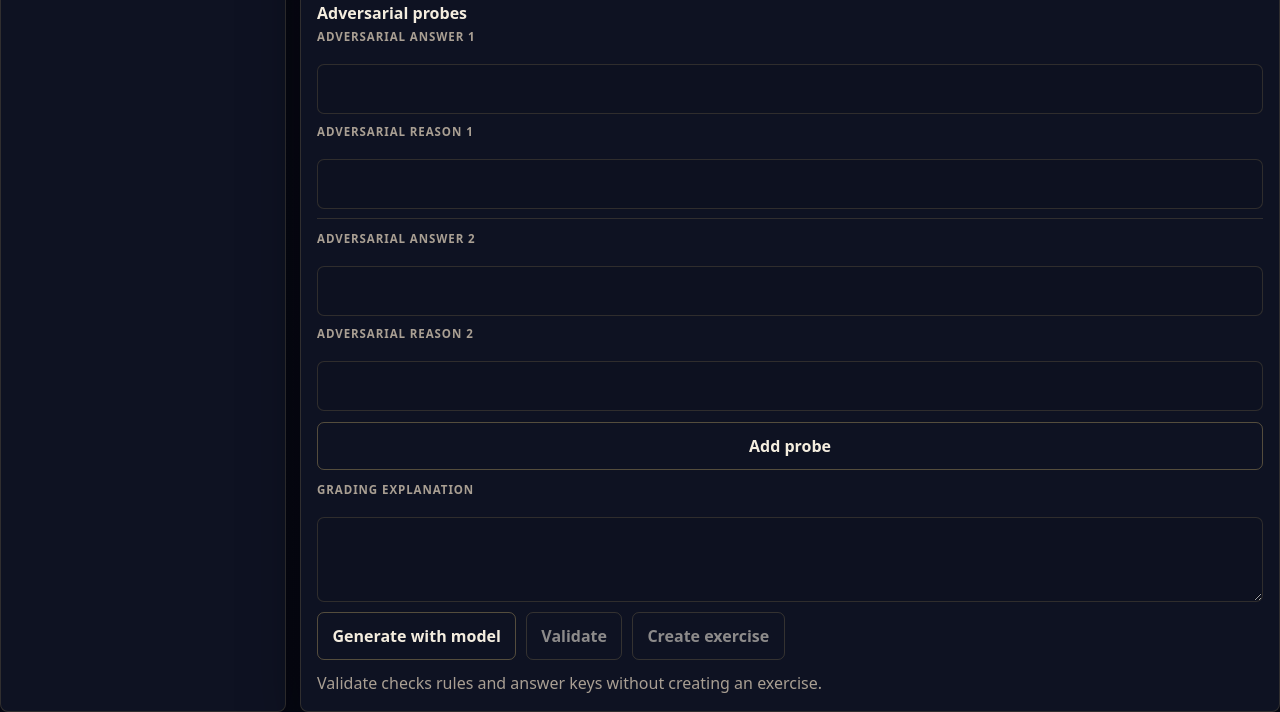
Scenario: LearnerView practice next panel › keeps at least two adversarial probe rows and can remove extras
(page scrolled)
expect the field labelled "Adversarial answer 1" is shown: met, box [317, 64, 1263, 114]
expect the field labelled "Adversarial answer 2" is shown: met, box [317, 266, 1263, 316]
Click the button "Add probe": click(790, 446) [317, 422, 1263, 470]
(page scrolled)
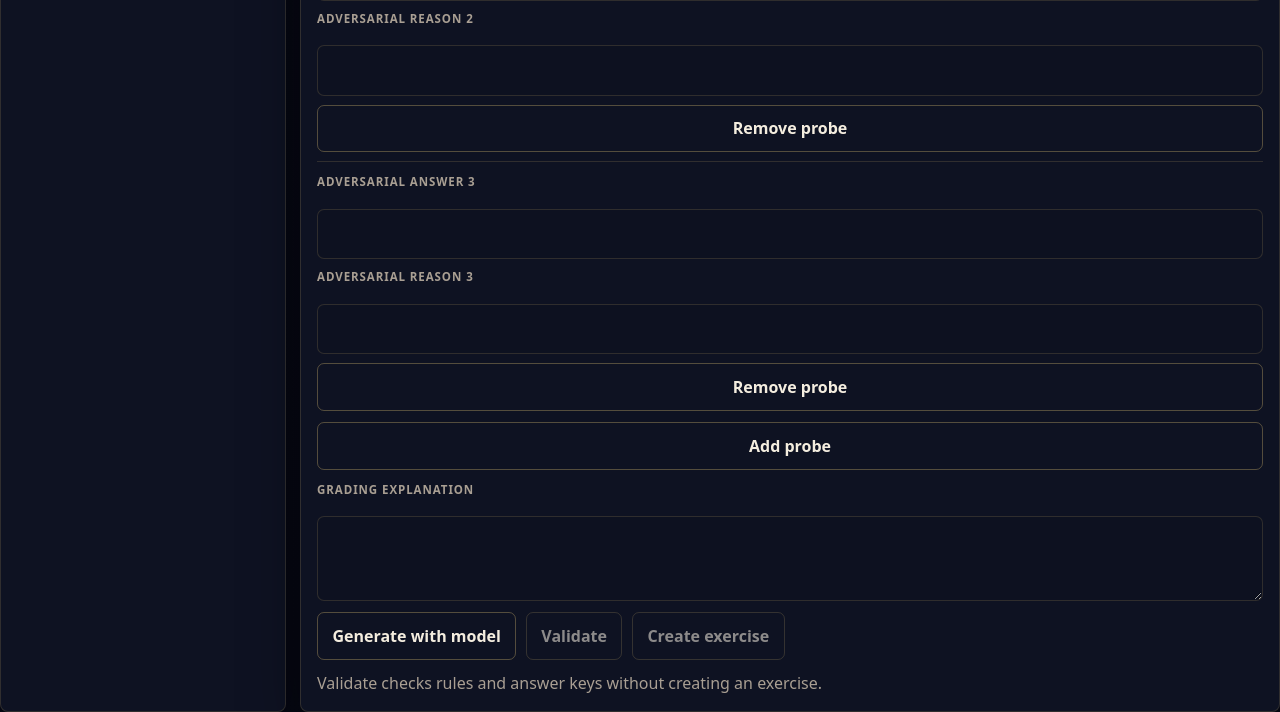
expect the field labelled "Adversarial answer 3" is shown: met, box [317, 209, 1263, 259]
expect the number of buttons "Remove probe" is 3: met
Click the button "Remove probe" below "Adversarial reason 3": click(790, 387) [317, 363, 1263, 411]
(page scrolled)
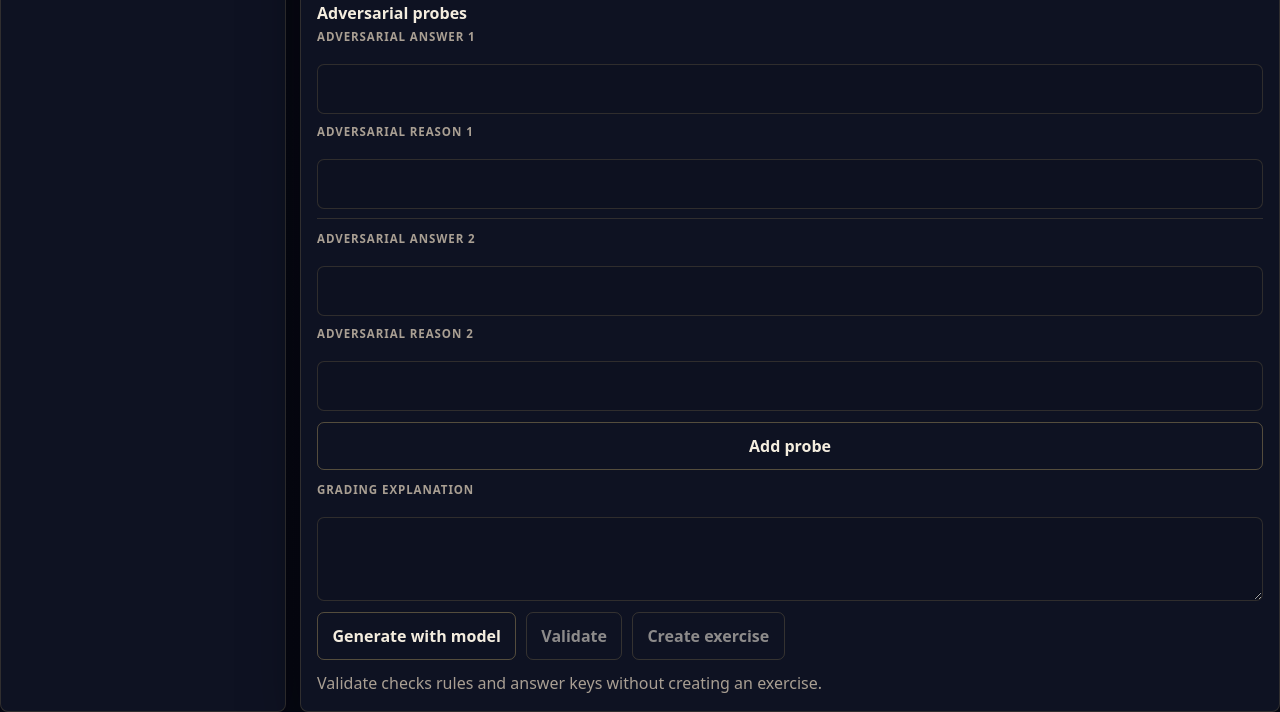
expect the label labelled "Adversarial answer 3" is gone: met
expect the button "Remove probe" is gone: met
